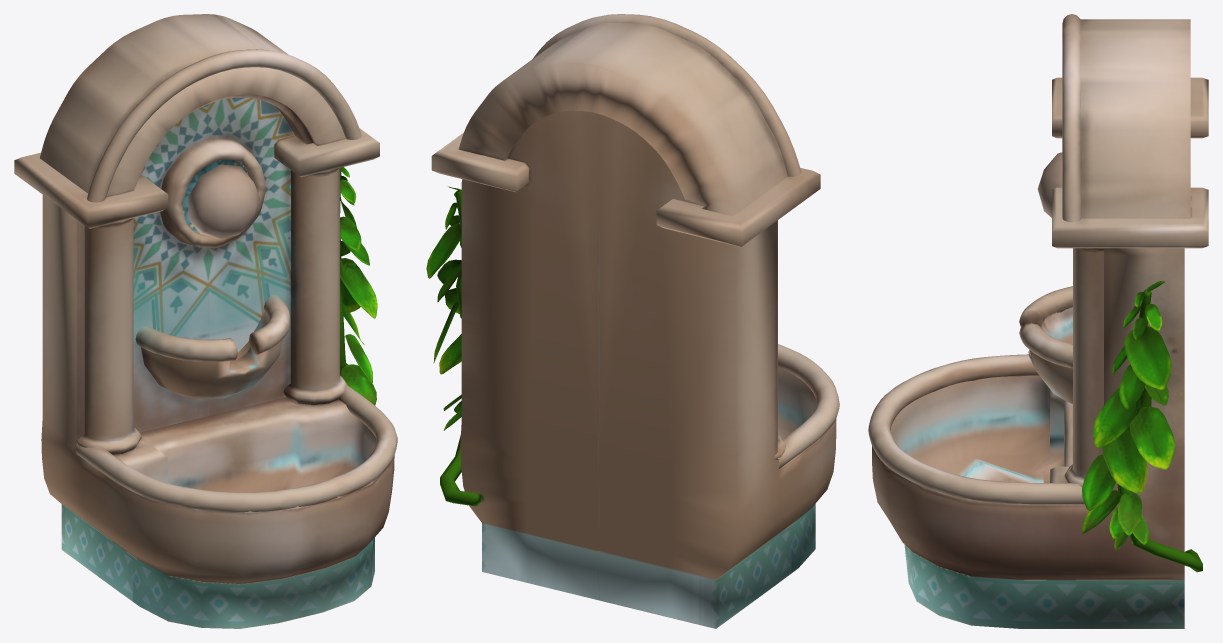
File: fountain.glb
3 views of the same model, side by side, from view 1: azimuth 30°, elevation 25°; view 2: azimuth 150°, elevation 25°; view 3: azimuth 270°, elevation 25° (orthographic). The views are drawn at different scales.
Parts seen in each view (by area): view 1: Circle.019; view 2: Circle.019; view 3: Circle.019.
Boxes of the visible parts, box(x1,y1,x2,y2) form: Circle.019: box(14, 14, 397, 628); Circle.019: box(426, 14, 839, 628); Circle.019: box(868, 14, 1208, 628).
Bounding box in the file's own units: 2.91 × 4.42 × 2.51.
Materials: 1 (1 with a texture image).
